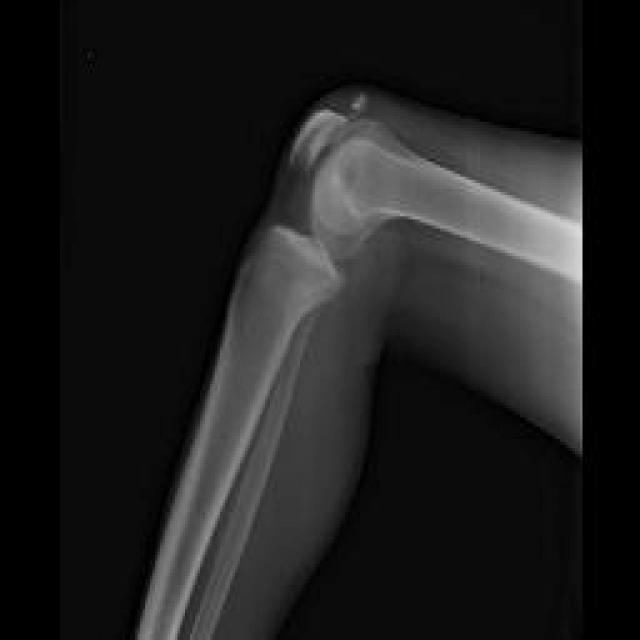normal: (137, 227, 339, 640), (312, 124, 583, 283)
